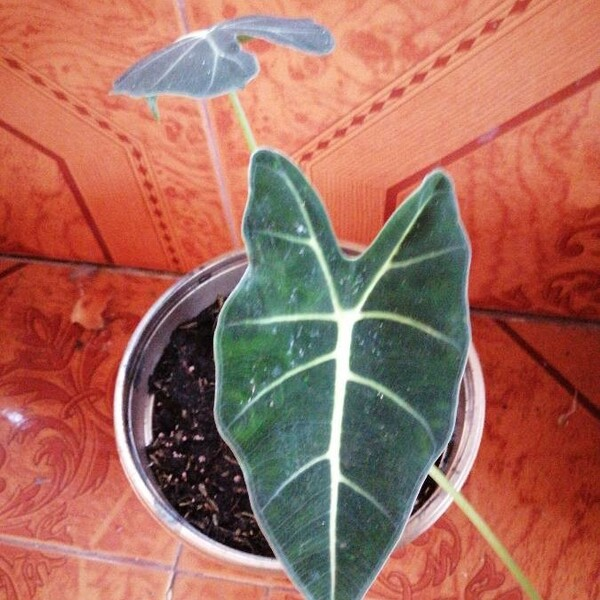obstacle: (95, 28, 493, 580)
